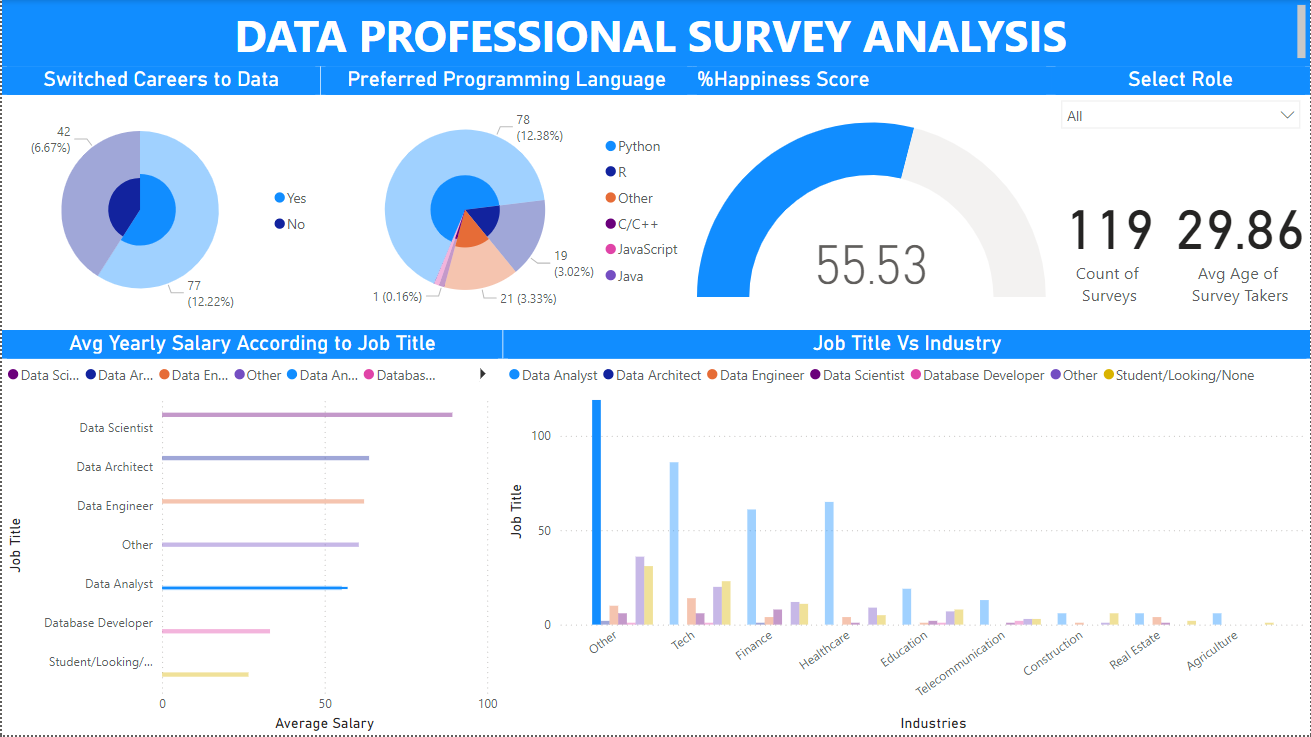

Layout of this report page (visuals, bound fields, positions):
{"tool":"powerbi","page":{"name":"Page 1","canvas":[1280,720],"ordinal":0},"visuals":[{"type":"card","title":"Number Of Surveys","fields":{"Values":["Count(Data Professional Survey.Unique ID)"]},"box":[1026.4,134.5,115.3,188],"z":0},{"type":"textbox","box":[0,0,1280.3,64.5],"z":1000},{"type":"card","fields":{"Values":["Avg(Data Professional Survey.Q10 - Current Age)"]},"box":[1141.7,134.5,138.6,188],"z":2000},{"type":"clusteredBarChart","title":"Avg Yearly Salary According to Job Title","fields":{"Category":["Data Professional Survey.Q1 - Which Title Best Fits your Current Role?.1"],"Y":["Avg(Data Professional Survey.Avg Salary)"],"Series":["Data Professional Survey.Q1 - Which Title Best Fits your Current Role?.1"]},"box":[0,322.5,489.9,397.9],"z":3000},{"type":"pieChart","title":"Switched Careers to Data","fields":{"Y":["CountNonNull(Data Professional Survey.Q2 - Did you switch careers into Data?)"],"Category":["Data Professional Survey.Q2 - Did you switch careers into Data?"]},"box":[0,64.5,311.5,258],"z":4000},{"type":"slicer","title":"Select Role","fields":{"Values":["Data Professional Survey.Q1 - Which Title Best Fits your Current Role?.1"]},"box":[1026.4,64.5,253.9,70],"z":5000},{"type":"pieChart","title":"Preferred Programming Language","fields":{"Y":["CountNonNull(Data Professional Survey.Q5 - Favorite Programming Language.1)"],"Category":["Data Professional Survey.Q5 - Favorite Programming Language.1"]},"box":[311.5,64.5,363.6,258],"z":6000},{"type":"clusteredColumnChart","title":"Job Title Vs Industry","fields":{"Category":["Data Professional Survey.Q4 - What Industry do you work in?.1"],"Series":["Data Professional Survey.Q1 - Which Title Best Fits your Current Role?.1"],"Y":["CountNonNull(Data Professional Survey.Q1 - Which Title Best Fits your Current Role?.1)"]},"box":[489.9,322.5,790.4,397.9],"z":7000},{"type":"gauge","title":" %Happiness Score","fields":{"Y":["Avg(Data Professional Survey.%Overall Happiness)"],"MaxValue":["Max(Data Professional Survey.%Overall Happiness)1"]},"box":[675.1,64.5,351.3,258],"z":8000}]}

Visuals, with their boxes in screenshot pixels (x1, y1, x2, y2), scaled from the page's 1280x720 canvas onto the 1311x737 screenshot:
"Number Of Surveys" card: BBox(1051, 138, 1169, 330)
textbox: BBox(0, 0, 1310, 66)
card - Avg(Data Professional Survey.Q10 - Current Age): BBox(1169, 138, 1310, 330)
"Avg Yearly Salary According to Job Title" clusteredBarChart: BBox(0, 330, 502, 736)
"Switched Careers to Data" pieChart: BBox(0, 66, 319, 330)
"Select Role" slicer: BBox(1051, 66, 1310, 138)
"Preferred Programming Language" pieChart: BBox(319, 66, 691, 330)
"Job Title Vs Industry" clusteredColumnChart: BBox(502, 330, 1310, 736)
" %Happiness Score" gauge: BBox(691, 66, 1051, 330)
